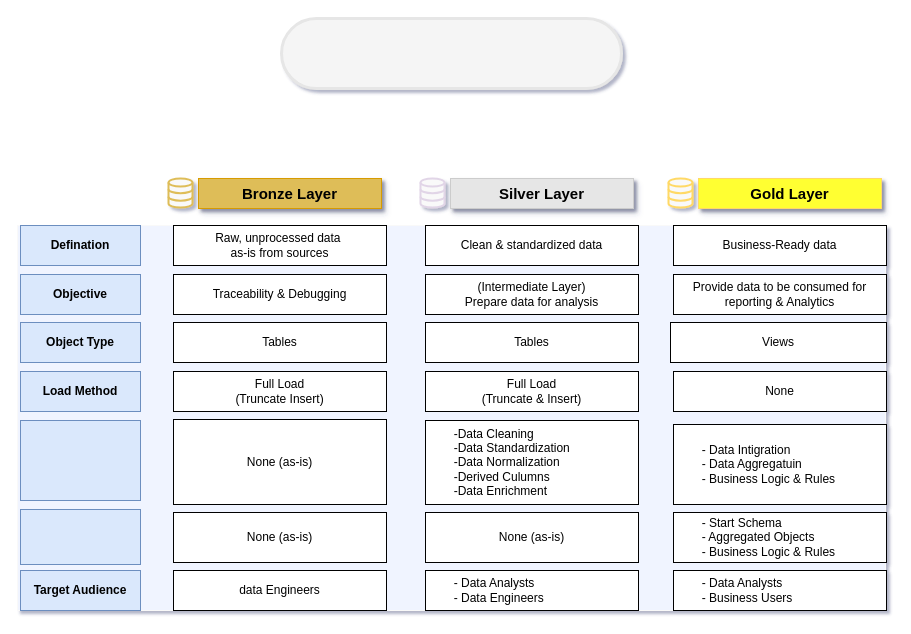
The diagram is 911 pixels wide and 634 high, and some of its shapes have lost their labels. Here are the shapes that lost their labels. From the top down, the centre of each, then its label:
At pixel 451 53: "Medalion Data Architecture".
At pixel 80 460: "Data Transformation".
At pixel 80 536: "Data Modeling".
